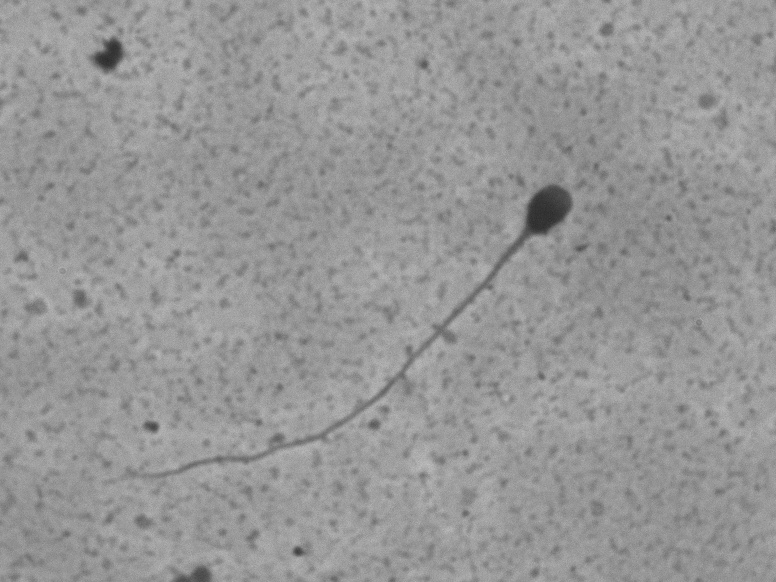Normal: (80, 161, 624, 493)
